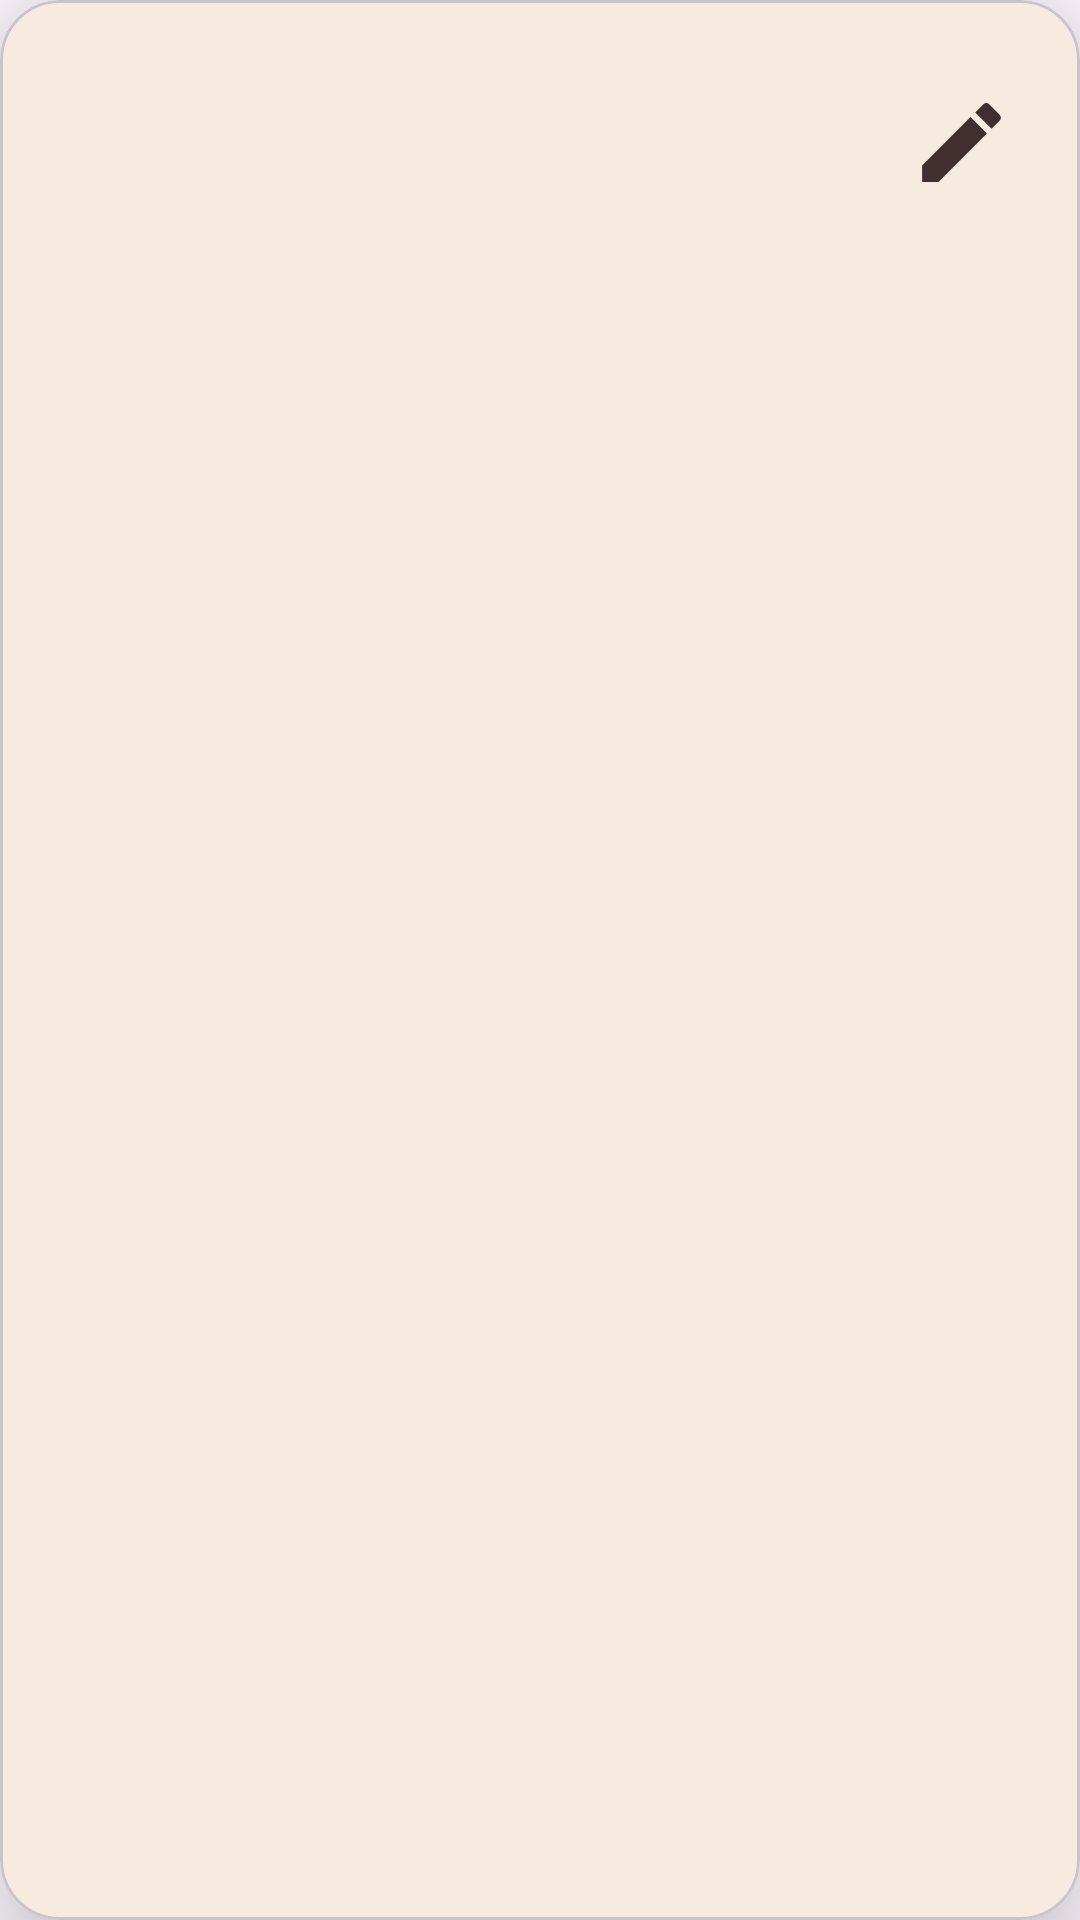

Point at icon controls on the screen. Image size 1080px x 1920px, points as (x=x, y=y).
edit: (x=961, y=142)
